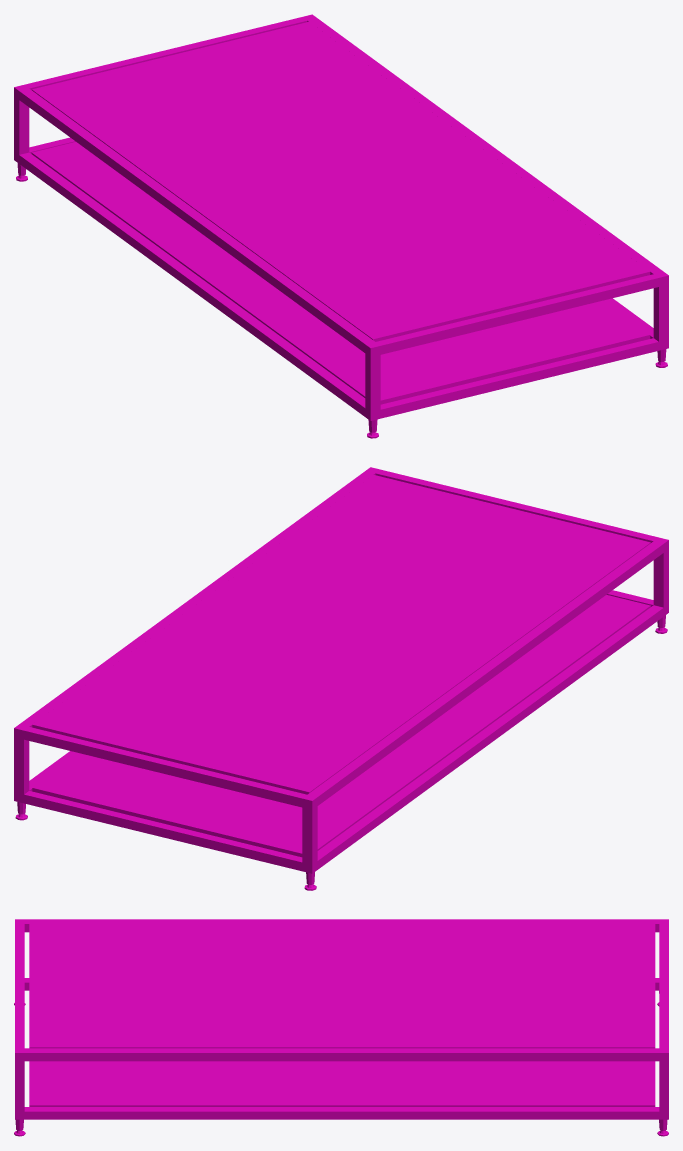
The model's file is Table_01.fbx.
3 views of the same model, one above another, from view 1: azimuth 30°, elevation 25°; view 2: azimuth 150°, elevation 25°; view 3: azimuth 270°, elevation 25° (orthographic). The views are drawn at different scales.
Parts seen in each view (by area): view 1: Table_01; view 2: Table_01; view 3: Table_01.
Boxes of the visible parts, x1,y1,x2,y2 form: Table_01: [14, 14, 668, 438]; Table_01: [14, 467, 668, 890]; Table_01: [14, 919, 668, 1136].
Bounding box in the file's own units: 136 × 39.54 × 280.
